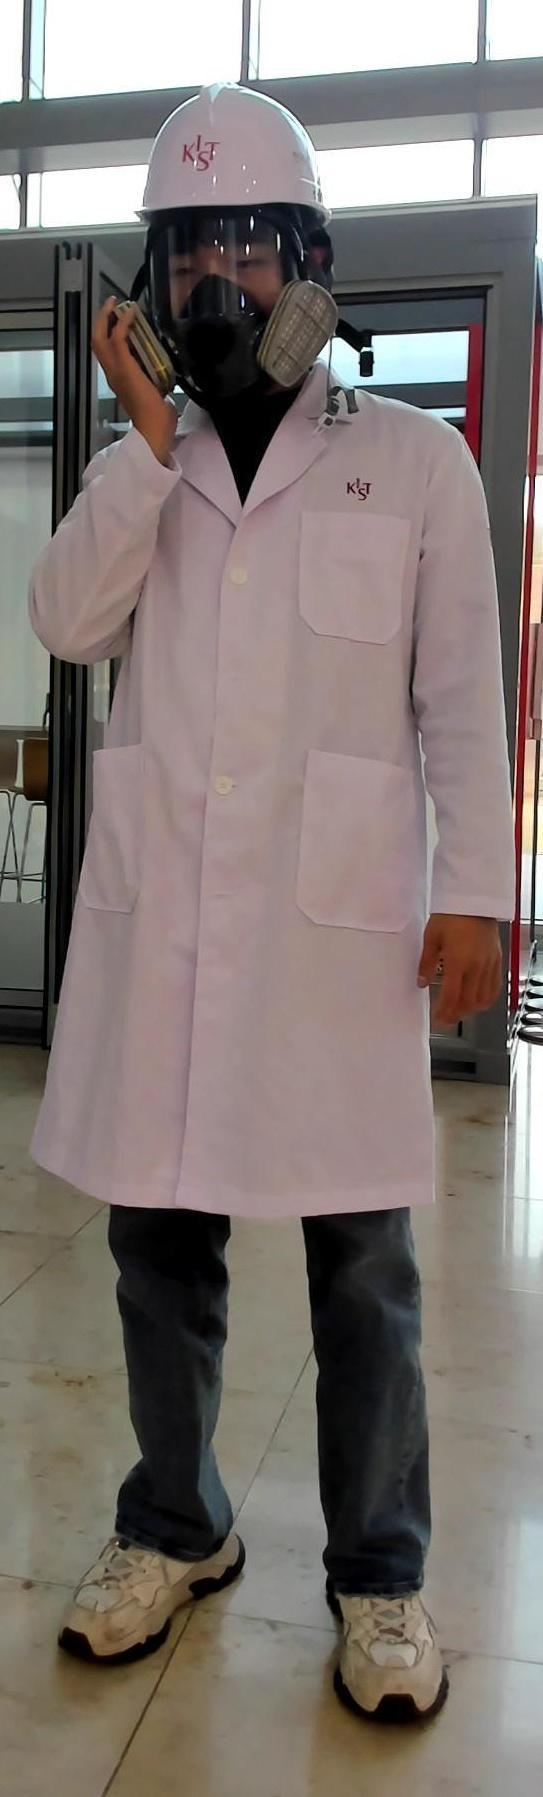lab_coat: (31, 450, 442, 1199)
